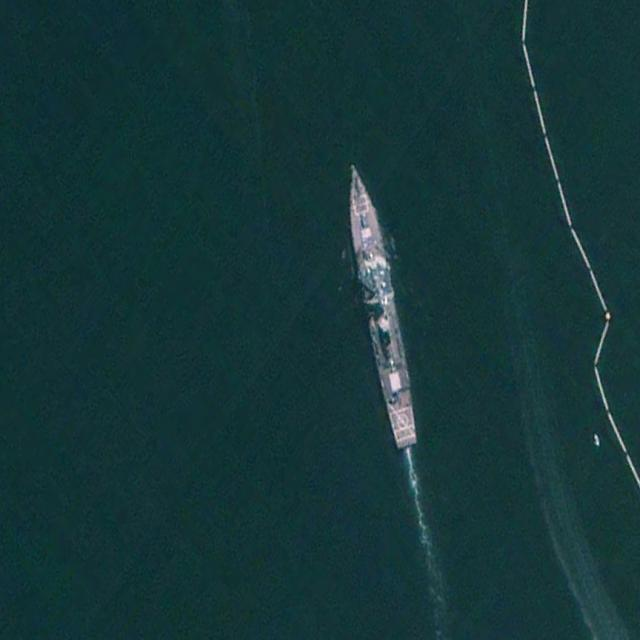Destroyer: (337, 157, 424, 452)
